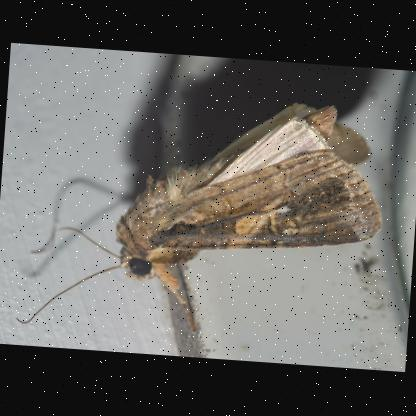Fall Armyworm Moth: (13, 78, 394, 352)
